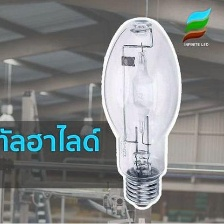light_bulb: (97, 12, 186, 214)
